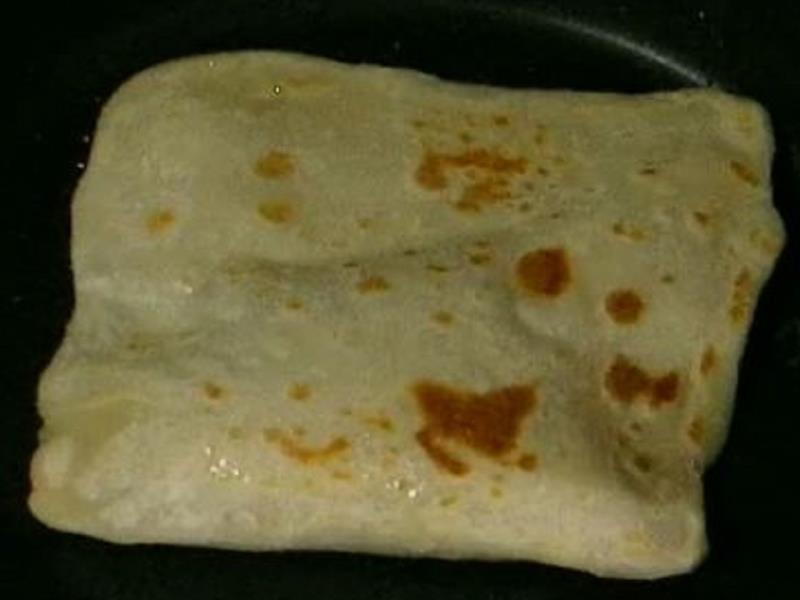Farata: (11, 17, 747, 573)
